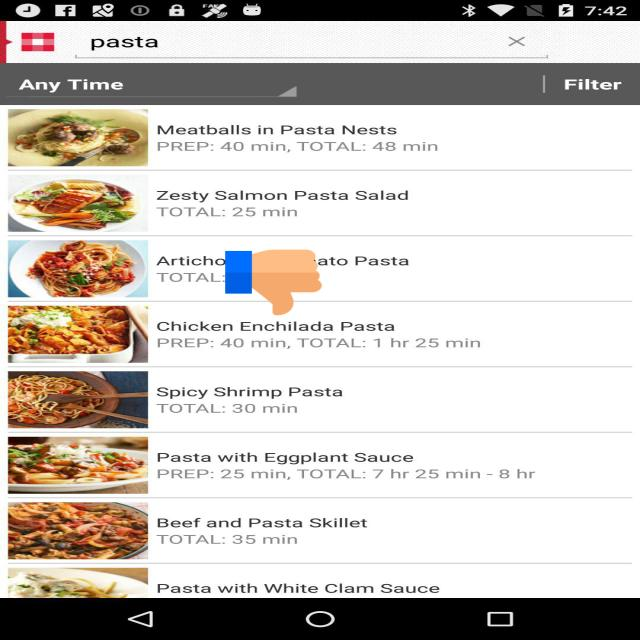obstruction: (225, 248, 322, 317)
